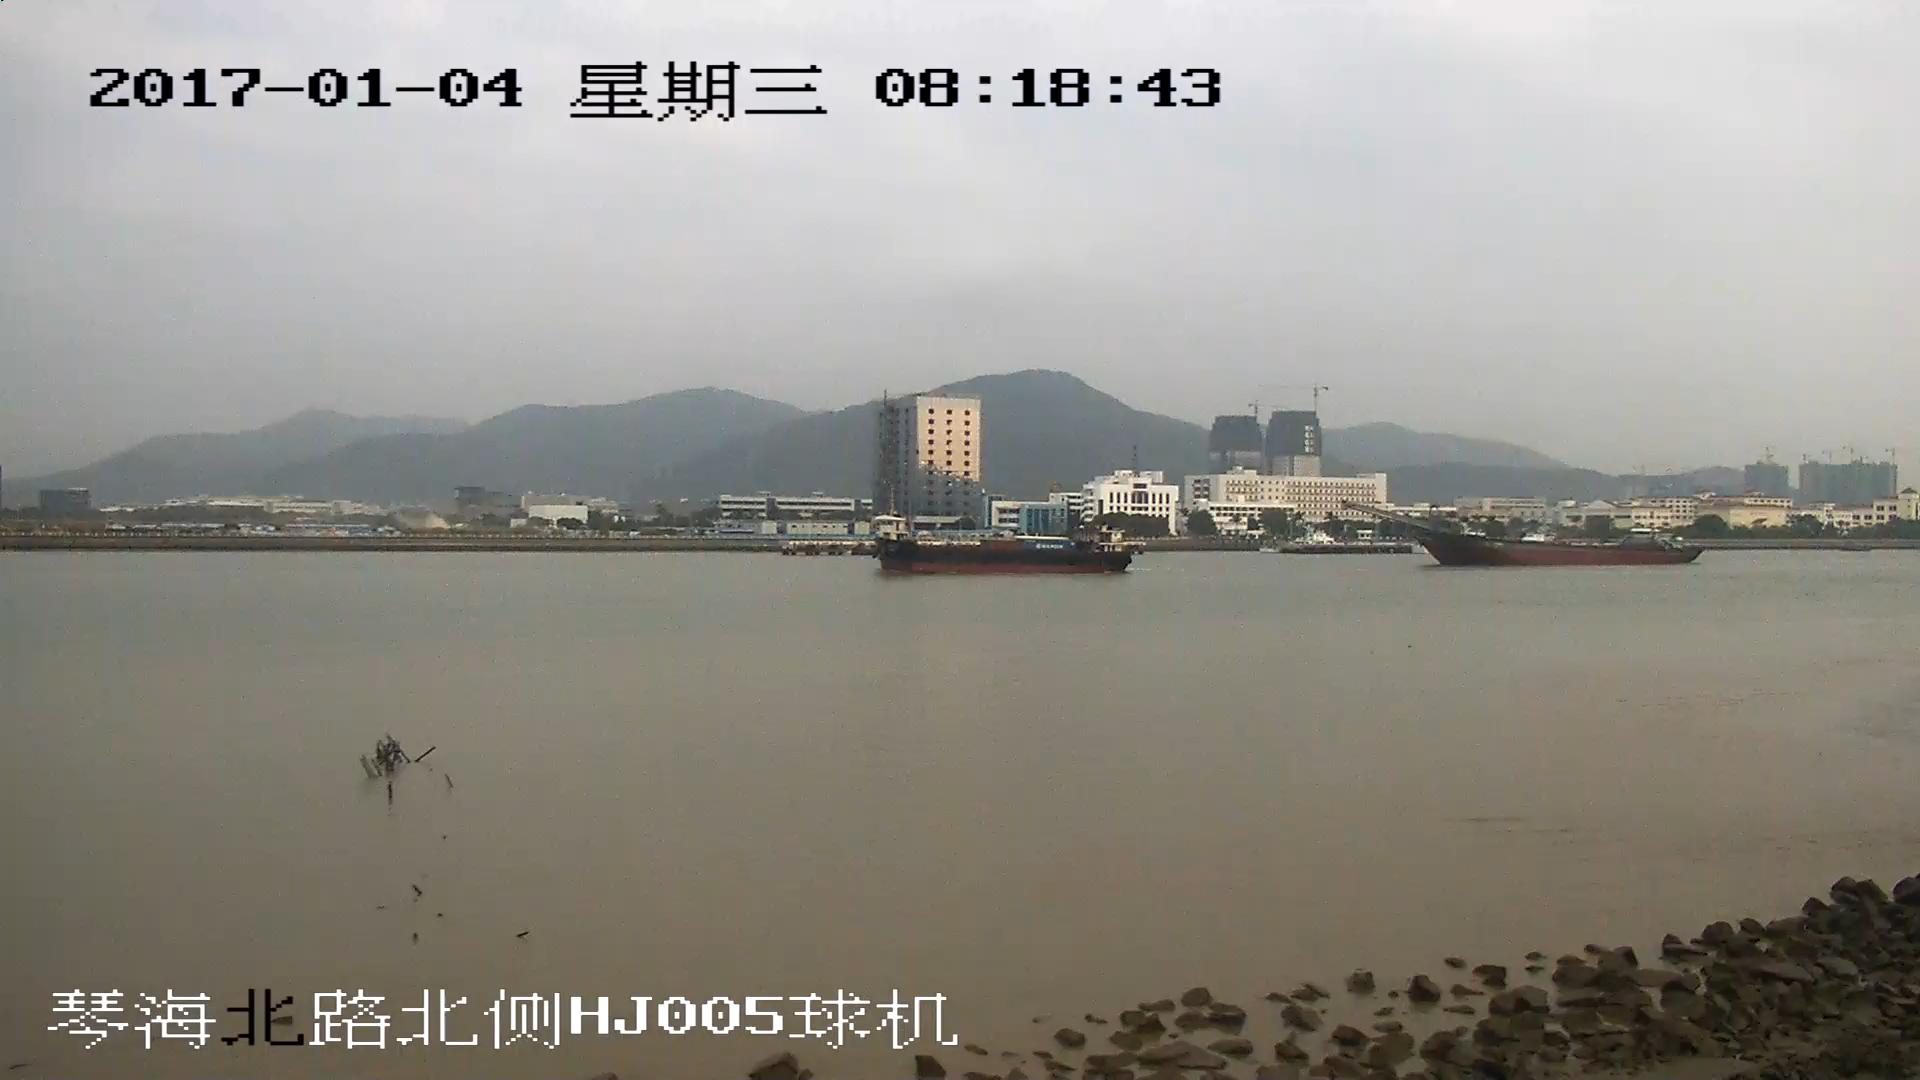bulk cargo carrier: (1342, 503, 1700, 570)
container ship: (872, 524, 1130, 572)
